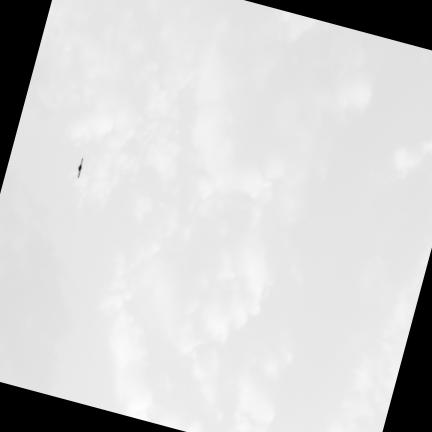Shahed: (77, 159, 81, 177)
